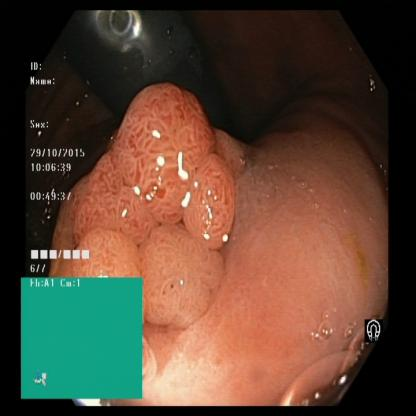Labels: (27, 51, 105, 275), (22, 280, 140, 398), (353, 304, 395, 369)
Polyps: (110, 76, 232, 235), (110, 234, 224, 330), (54, 154, 110, 280)
